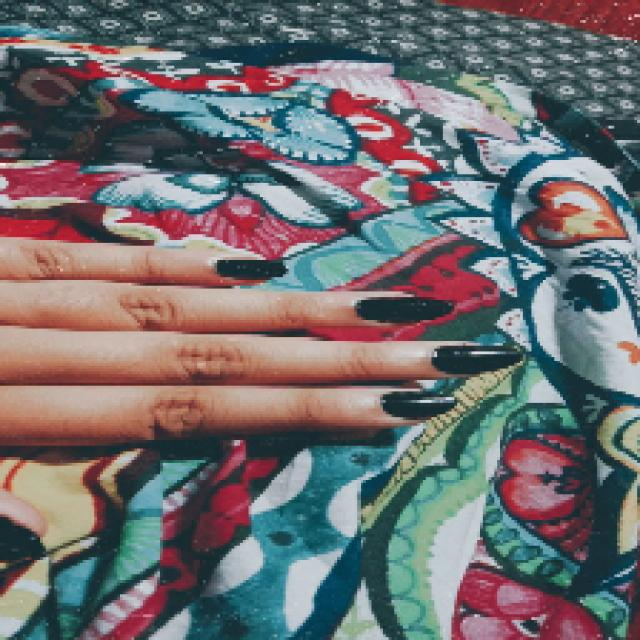Nail: (431, 345, 522, 375), (355, 297, 454, 322), (381, 391, 456, 419), (0, 516, 45, 561), (216, 260, 288, 280)
